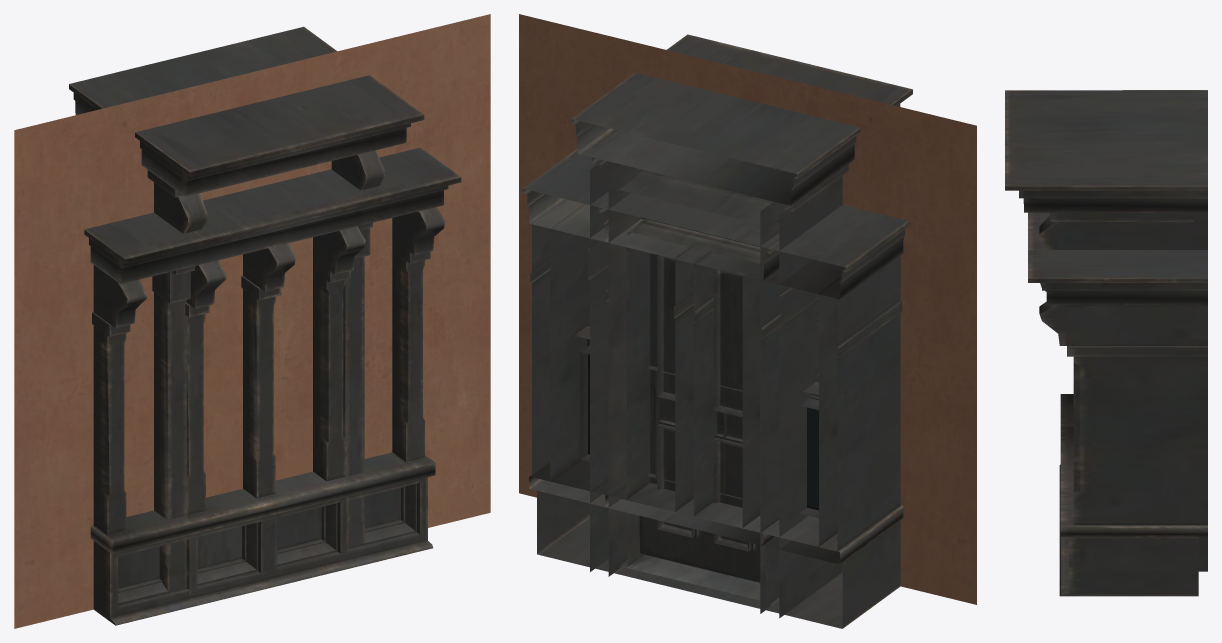
Rendered from modular_urban_apartments_facade.glb.
The picture shows the model from 3 angles, left to right: view 1: azimuth 30°, elevation 25°; view 2: azimuth 150°, elevation 25°; view 3: azimuth 270°, elevation 25°; orthographic projection. The views are drawn at different scales.
Visible parts, largest first — view 1: wall_door_centered_small_01, window_centered_large_01, door, window, wall_window_centered_large_01, wall_standard_standard_01, wall_window_centered_small_01; view 2: door, window_centered_large_01, wall_window_centered_large_01, wall_window_centered_small_01, window, wall_standard_standard_01; view 3: window_centered_large_01, door, window.
Boxes of the visible parts, x1,y1,x2,y2 form: wall_door_centered_small_01: (14, 14, 490, 628); window_centered_large_01: (84, 147, 461, 625); door: (69, 26, 424, 591); window: (184, 187, 381, 605); wall_window_centered_large_01: (14, 47, 490, 527); wall_standard_standard_01: (27, 91, 490, 516); wall_window_centered_small_01: (14, 51, 490, 522); door: (571, 34, 912, 618); window_centered_large_01: (522, 148, 909, 628); wall_window_centered_large_01: (519, 14, 976, 581); wall_window_centered_small_01: (519, 14, 976, 604); window: (599, 193, 780, 609); wall_standard_standard_01: (519, 15, 976, 595); window_centered_large_01: (1028, 212, 1207, 596); door: (1005, 90, 1207, 571); window: (1028, 212, 1073, 563).
Size of the model in its own units: 1 by 1 by 0.438.
3 materials, 3 textured.
